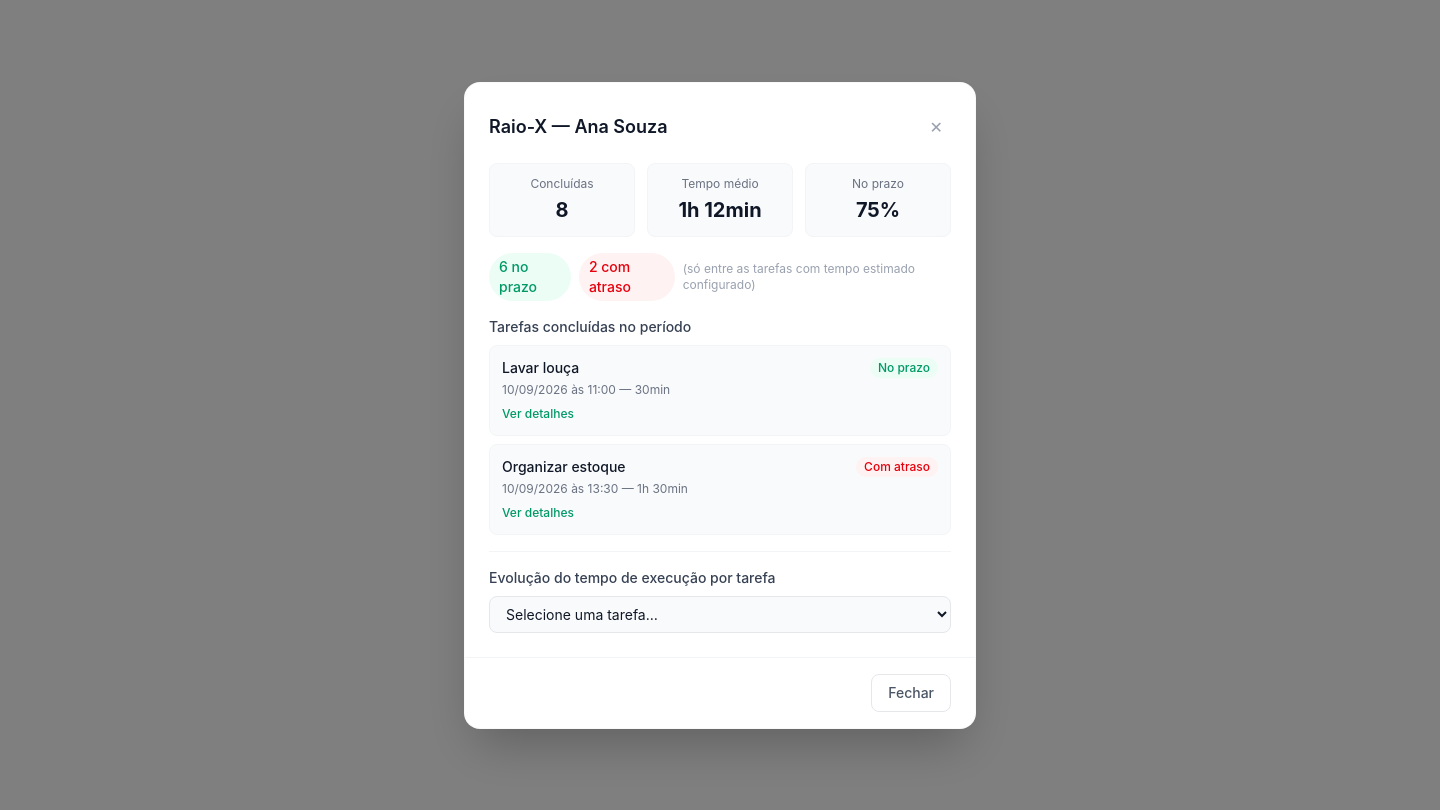
EmployeeProfileModal › selecionar uma tarefa com só 1 conclusão mostra a mensagem de "sem histórico suficiente"
The image size is (1440, 810).
Select "Lavar louça" in the dropdown labelled "Evolução do tempo de execução por tarefa" at (720, 614), box [489,596,951,632]
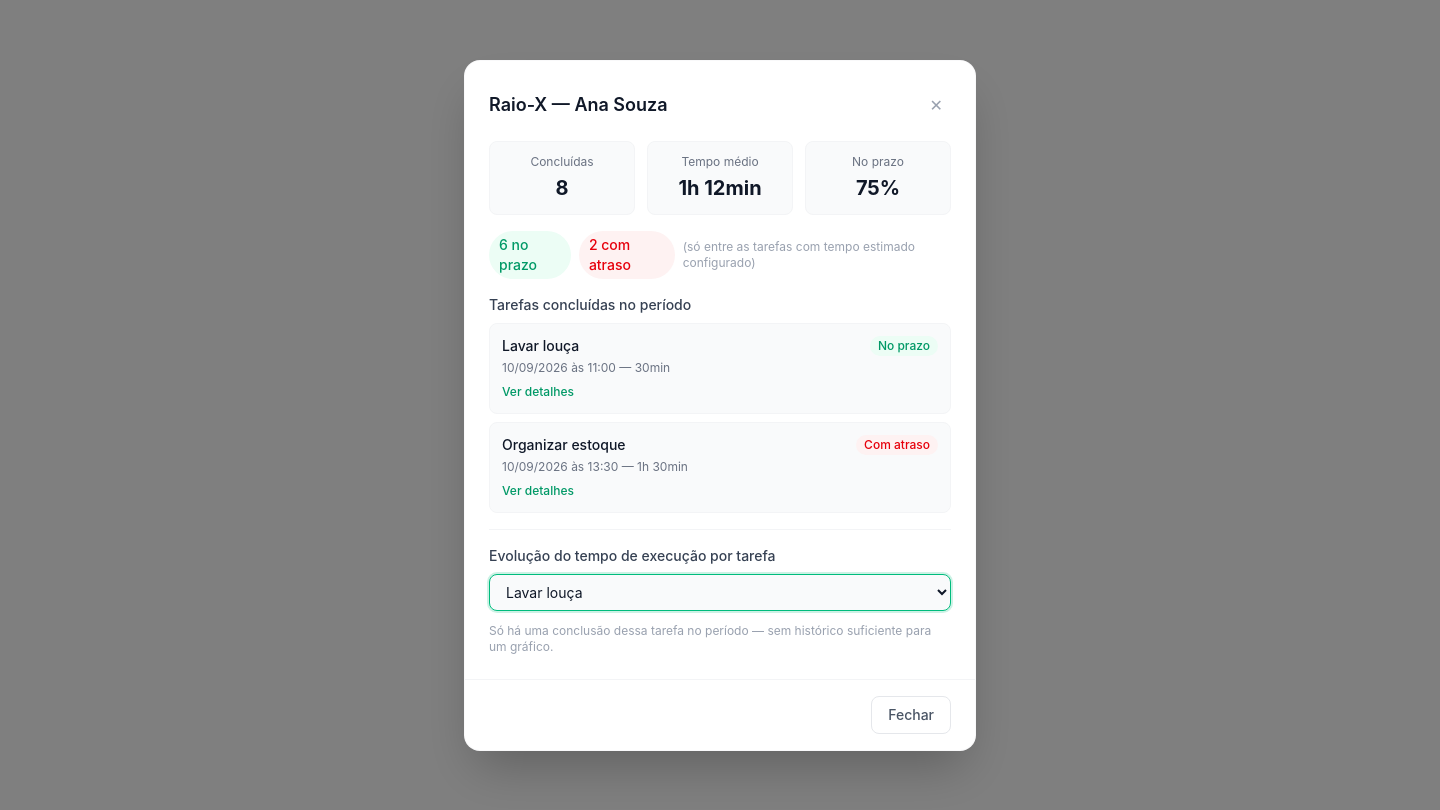
Expected: the text "sem histórico suficiente para um gráfico" is shown, [489,622,931,654]
